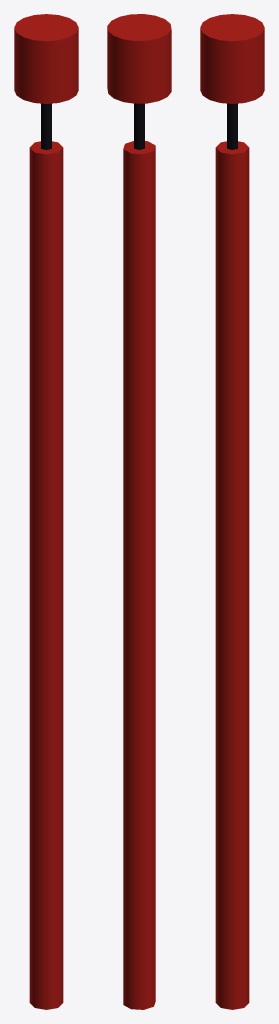
Rendered from stake_red_cylinder.glb.
The picture shows the model from 3 angles, left to right: view 1: azimuth 90°, elevation 25°; view 2: azimuth 150°, elevation 25°; view 3: azimuth 270°, elevation 25°; orthographic projection.
Parts seen in each view (by area): view 1: stake_red_cylinder; view 2: stake_red_cylinder; view 3: stake_red_cylinder.
Boxes of the visible parts, box(x1,y1,x2,y2) form: stake_red_cylinder: box(14, 14, 78, 1009); stake_red_cylinder: box(107, 14, 171, 1009); stake_red_cylinder: box(200, 14, 264, 1009).
Bounding box in the file's own units: 0.3081 × 5.13 × 0.3081.
